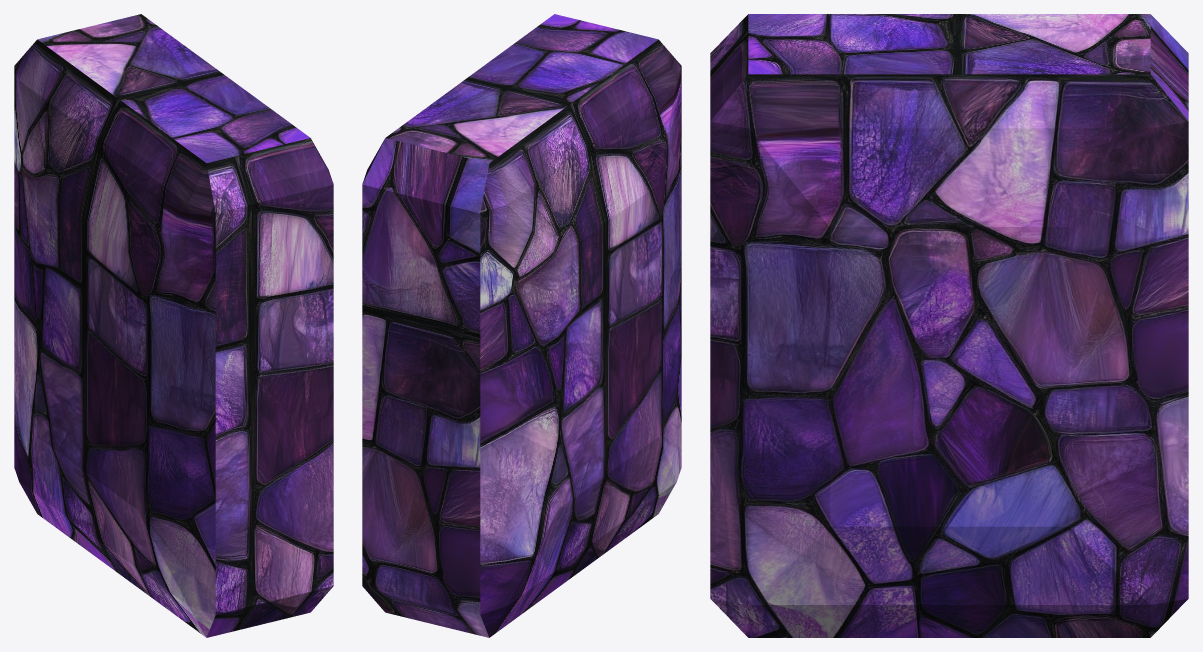
The model's file is gemstone6PurpleCompressed.glb.
3 views of the same model, side by side, from view 1: azimuth 30°, elevation 25°; view 2: azimuth 150°, elevation 25°; view 3: azimuth 270°, elevation 25° (orthographic). The views are drawn at different scales.
Parts seen in each view (by area): view 1: gemstone5; view 2: gemstone5; view 3: gemstone5.
Part boxes in pixels (x1,y1,x2,y2): gemstone5: [14, 14, 333, 637]; gemstone5: [362, 14, 681, 637]; gemstone5: [710, 14, 1188, 637].
Bounding box in the file's own units: 0.5 × 1.3 × 1.
Materials: 1 (1 with a texture image).
